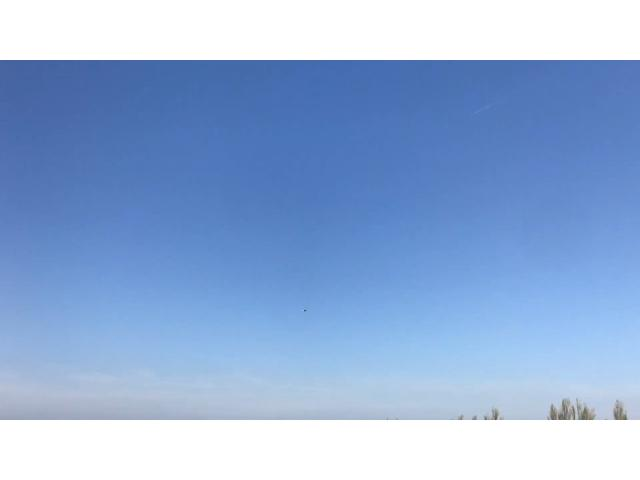Anti-Drone: (295, 305, 321, 323)
